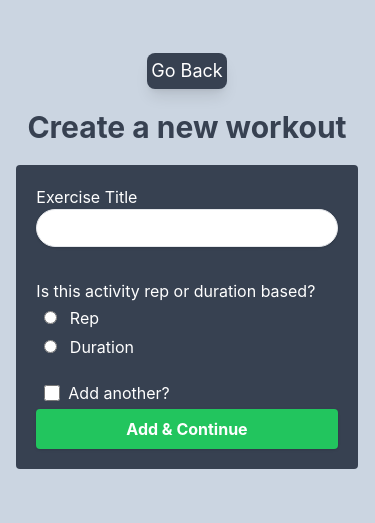
it: Check the workout creation functionality › submits a valid exercise with valid data
The image size is (375, 523).
In the field with test id "titleInput": (187, 228) x1=36 y1=209 x2=337 y2=247, type "Assault Bike"
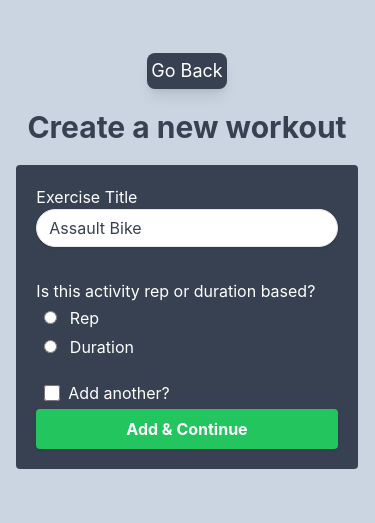
Click the radio button with test id "DurationRadio": (51, 347) x1=44 y1=340 x2=57 y2=353
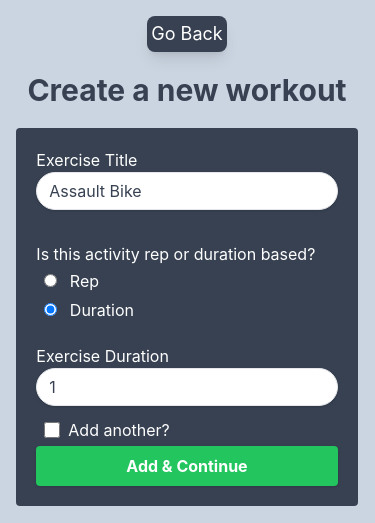
Replace the text in the number field with test id "durationInput" with "30": (187, 387) x1=36 y1=368 x2=337 y2=406
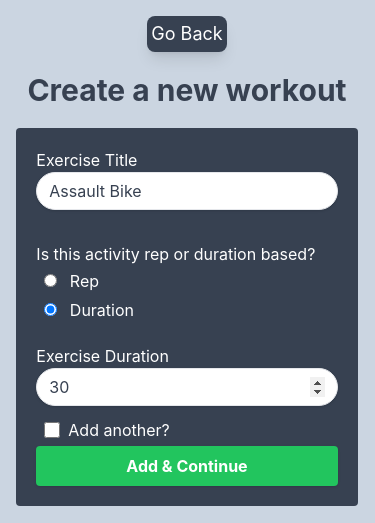
Click the button with test id "SubmitButton": (187, 466) x1=36 y1=446 x2=337 y2=486
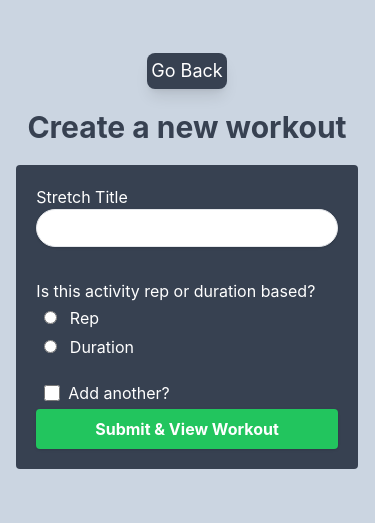
Now the text "stretch" is shown, box x1=36 y1=187 x2=127 y2=207
